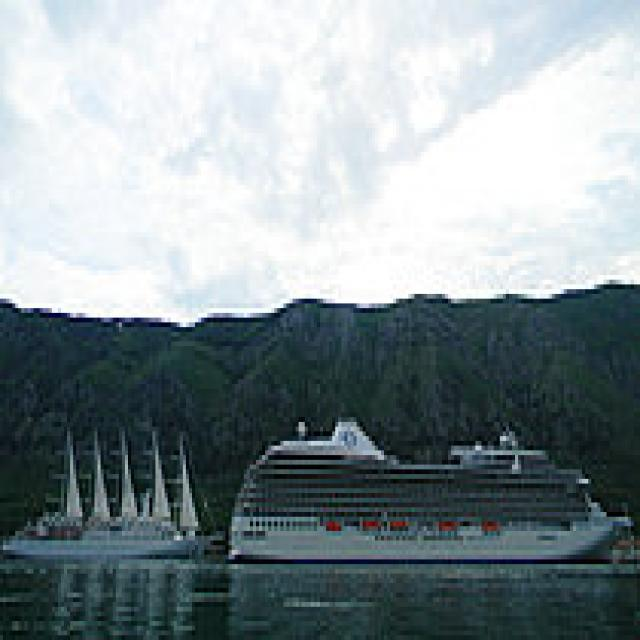Ship: (223, 394, 629, 570)
